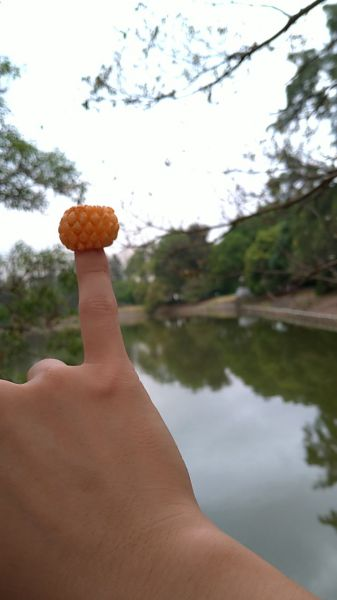eggs: (57, 205, 118, 251)
